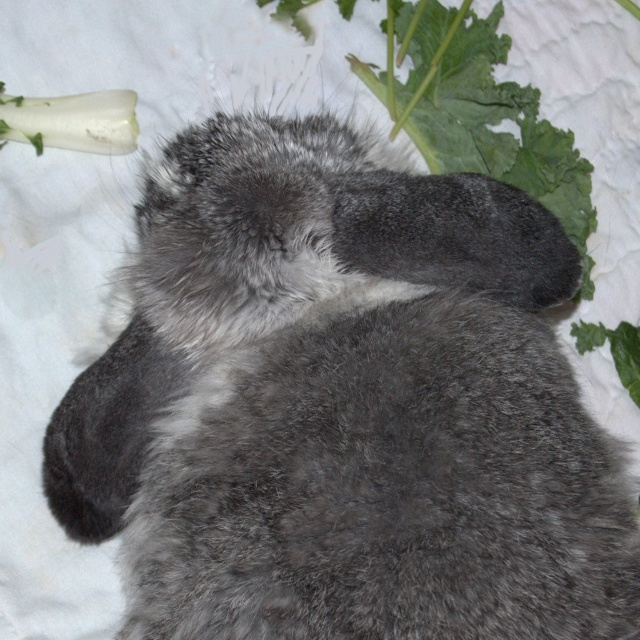Otter: (41, 57, 640, 640)
